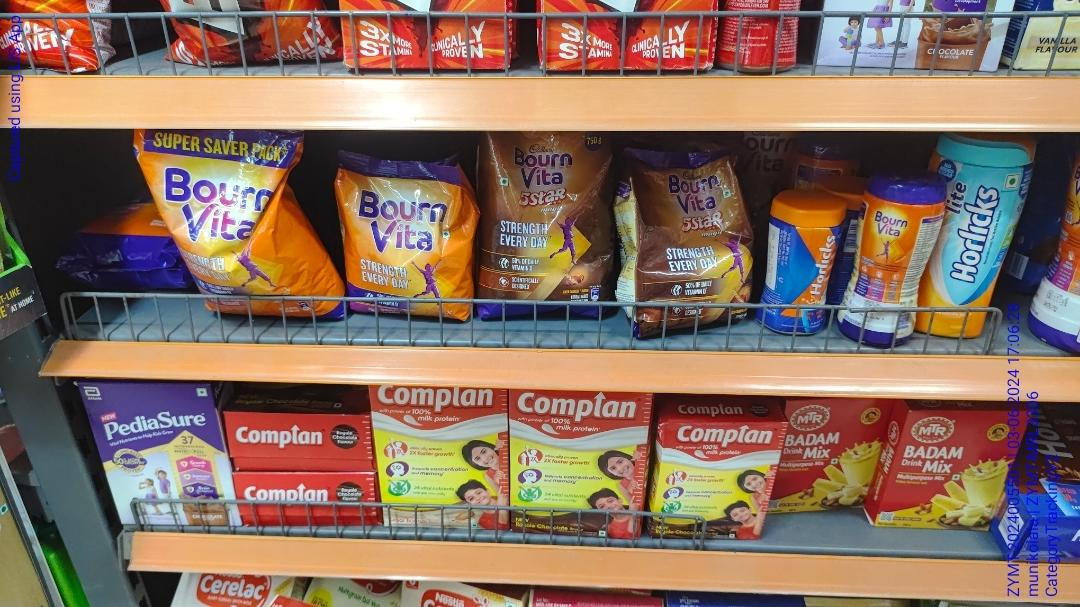BOURN_VITA_1_KG_POUCH: (152, 130, 332, 323)
BOURN_VITA_500_G_JAR: (847, 179, 929, 345)
BOURN_VITA_500_G_POUCH: (338, 155, 472, 325)
BOURN_VITA_FIVE_STAR_MAGIC_750_G_POUCH: (477, 134, 617, 316), (627, 152, 753, 330)
COMPLAN_CHOCOLATE_200_GMS_PACK: (657, 426, 778, 538)
COMPLAN_CHOCOLATE_500_GMS_PACK: (513, 389, 645, 538)
COMPLAN_KESAR_BADAM_500_GMS_PACK: (375, 385, 511, 529)
HORLICKS_LITE_REGULAR_MALT_500_GM_JAR: (933, 146, 1015, 340)
HORLICK_CLASSIC_MALT_200_G_JAR: (758, 201, 837, 335)
PEDIASURE_CHOCOLATE_500_G_PACK: (84, 384, 230, 525)
